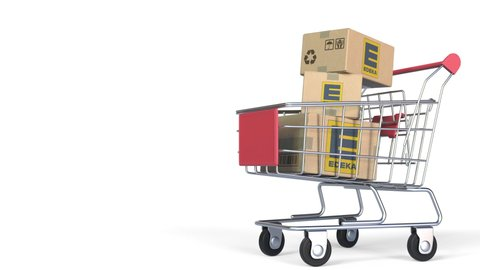with_basket: (228, 66, 466, 257)
